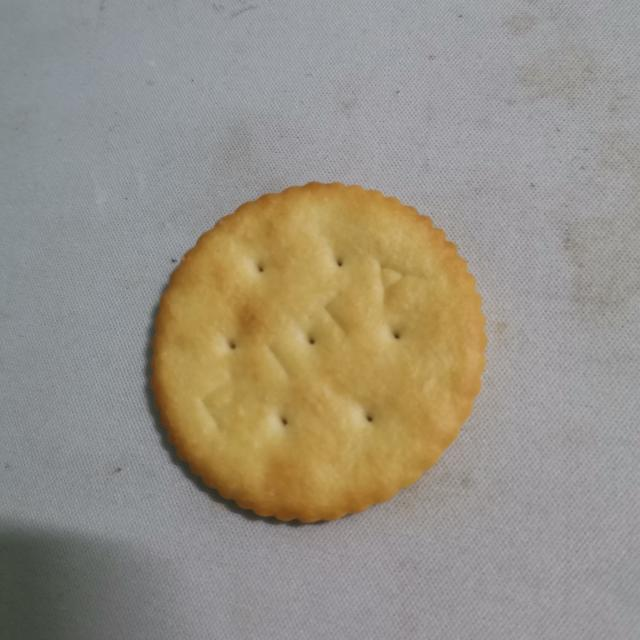Intact: (137, 170, 500, 533)
